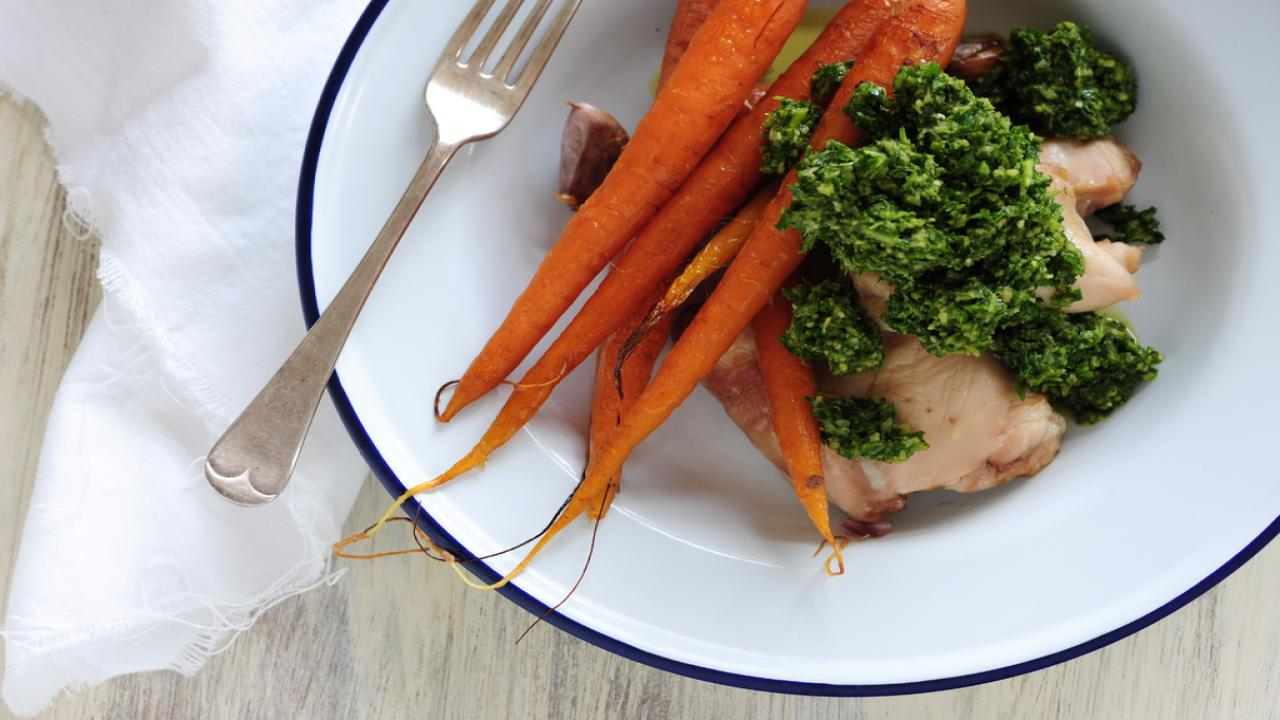fork: (205, 0, 584, 510)
